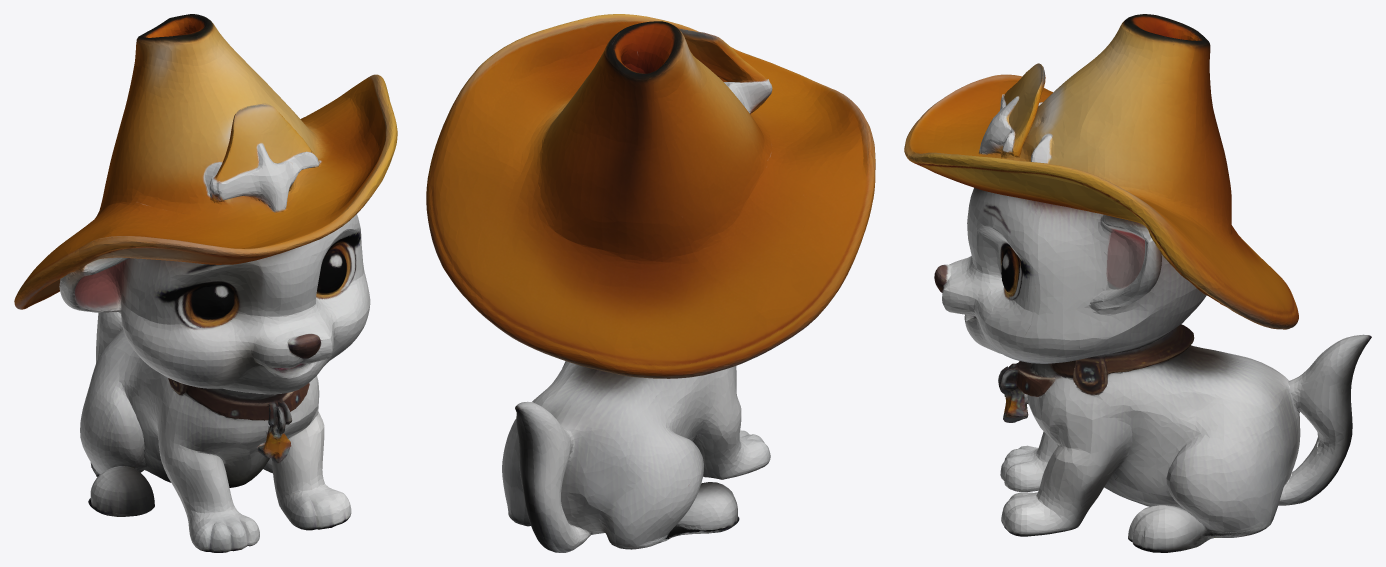
The model's file is puppies_with_a_cowboy_hat.glb.
3 renders of one model, left to right at view 1: azimuth 30°, elevation 25°; view 2: azimuth 150°, elevation 25°; view 3: azimuth 270°, elevation 25°, orthographic.
Parts seen in each view (by area): view 1: world; view 2: world; view 3: world.
Boxes of the visible parts, x1=… form: world: x1=14, y1=14, x2=397, y2=552; world: x1=426, y1=14, x2=875, y2=552; world: x1=904, y1=14, x2=1371, y2=552.
Bounding box in the file's own units: 0.8366 × 0.9996 × 0.9016.
Materials: 1 (1 with a texture image).
